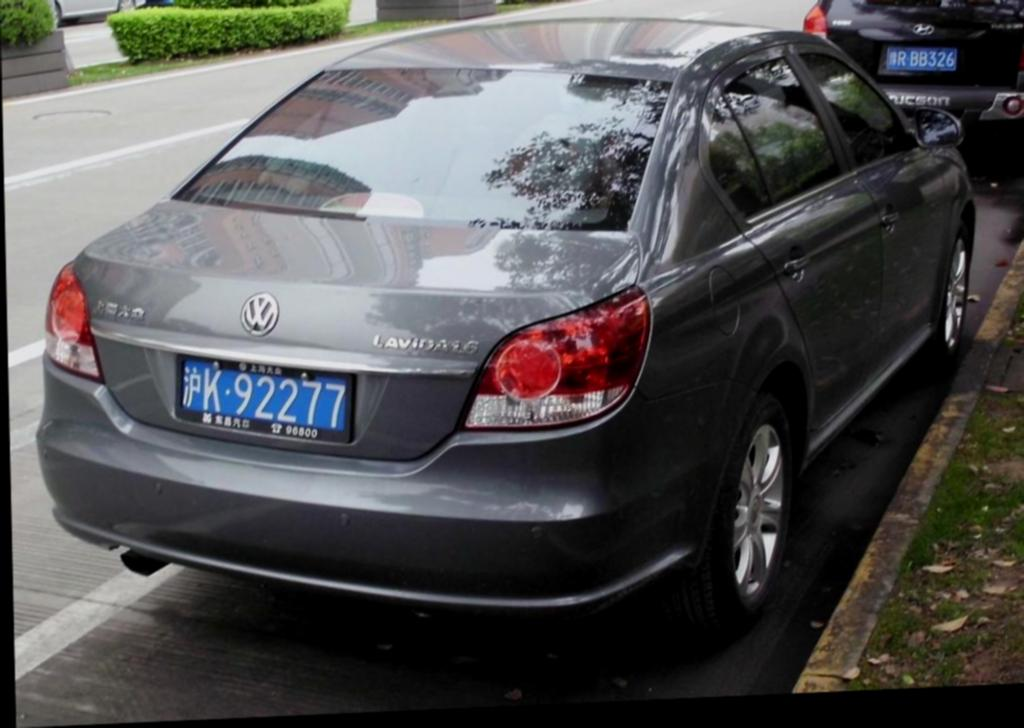License_Plate: (172, 346, 353, 450), (886, 46, 958, 74)
